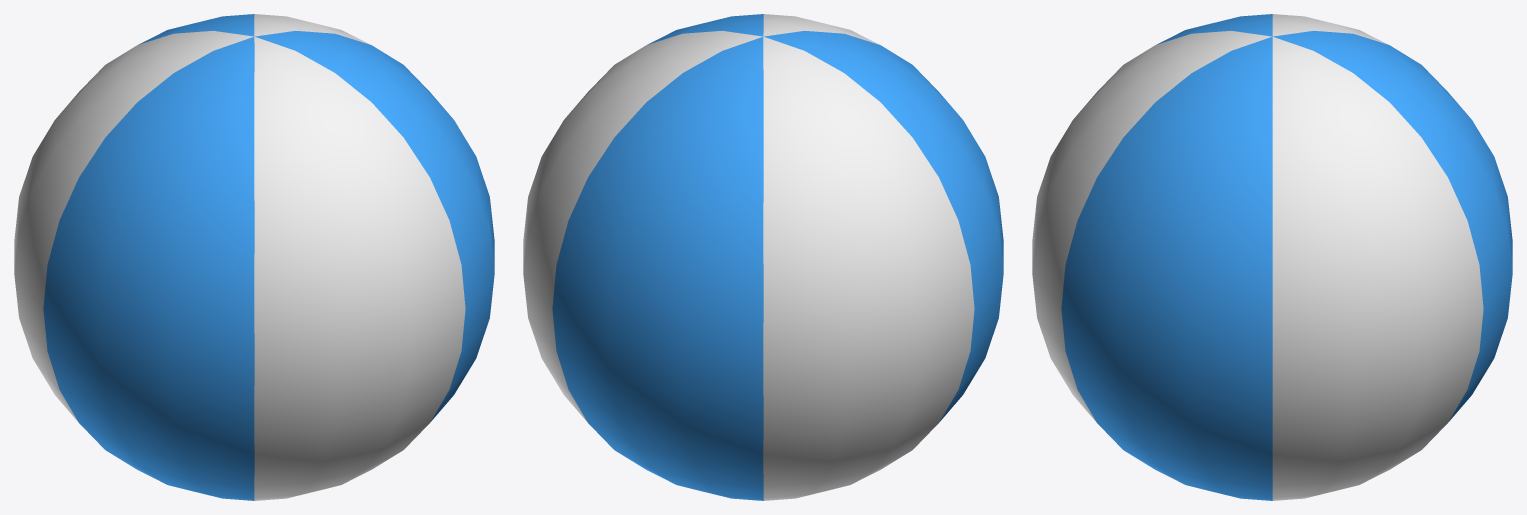
File: Volleyball_Blue.fbx
3 renders of one model, left to right at view 1: azimuth 30°, elevation 25°; view 2: azimuth 150°, elevation 25°; view 3: azimuth 270°, elevation 25°, orthographic.
Visible parts, largest first — view 1: Volleyball_Blue; view 2: Volleyball_Blue; view 3: Volleyball_Blue.
Part boxes in pixels (x1=…): Volleyball_Blue: x1=14, y1=14, x2=494, y2=500; Volleyball_Blue: x1=523, y1=14, x2=1003, y2=500; Volleyball_Blue: x1=1032, y1=14, x2=1512, y2=500.
Bounding box in the file's own units: 96.75 × 96.75 × 95.28.
